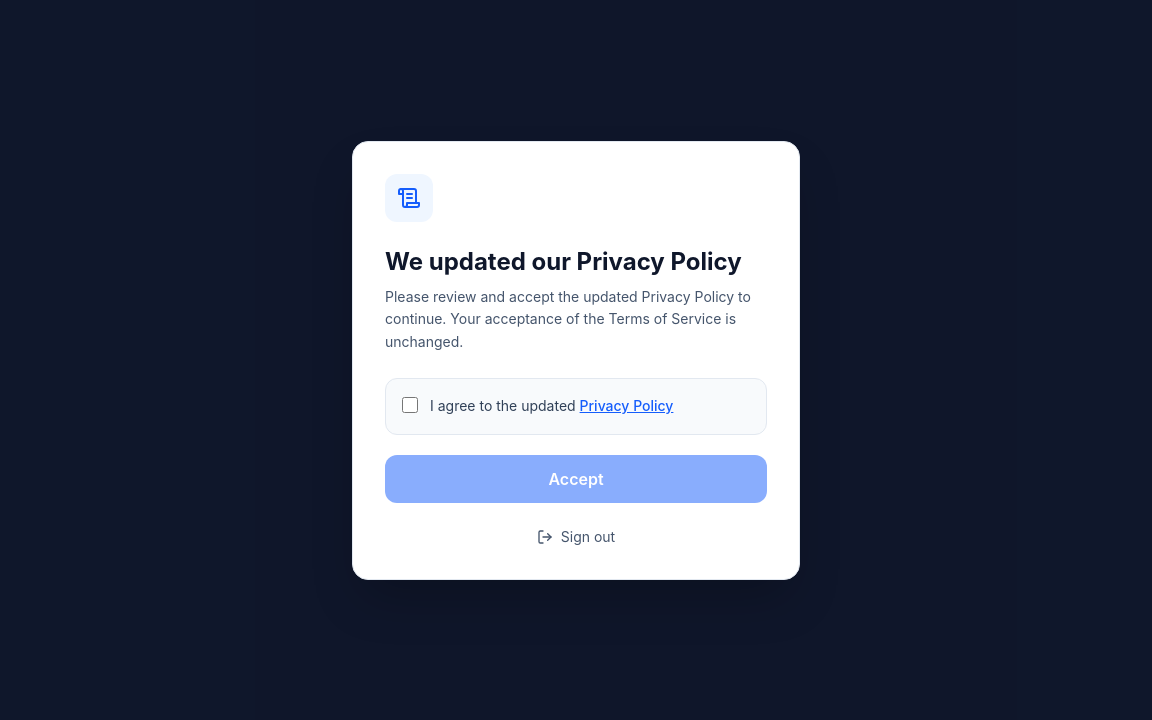
Legal acceptance gate › asks only for the updated Privacy Policy when the current Terms are already accepted
This screenshot has width=1152, height=720.
Expected: the dialog "We updated our Privacy Policy" shows "Your acceptance of the Terms of Service is unchanged.", [385,288,751,350]
Click the checkbox at (410,405), box [402,397,418,413]
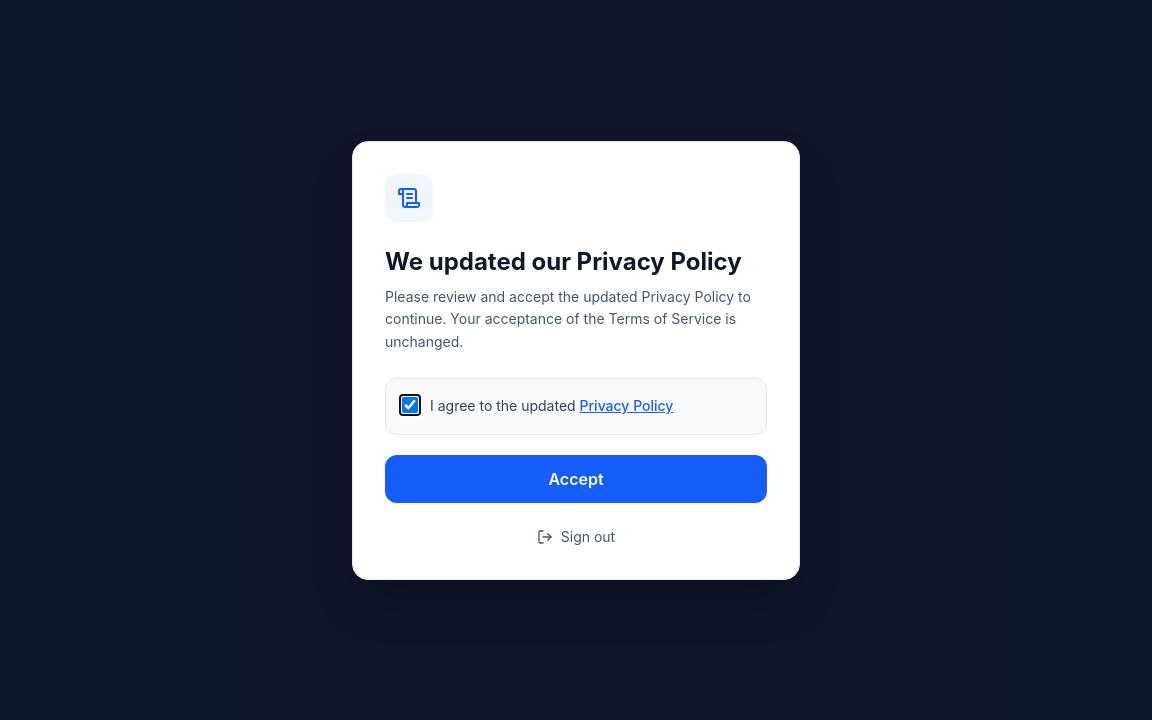
Click the button "Accept" at (576,478), box [385,454,767,502]
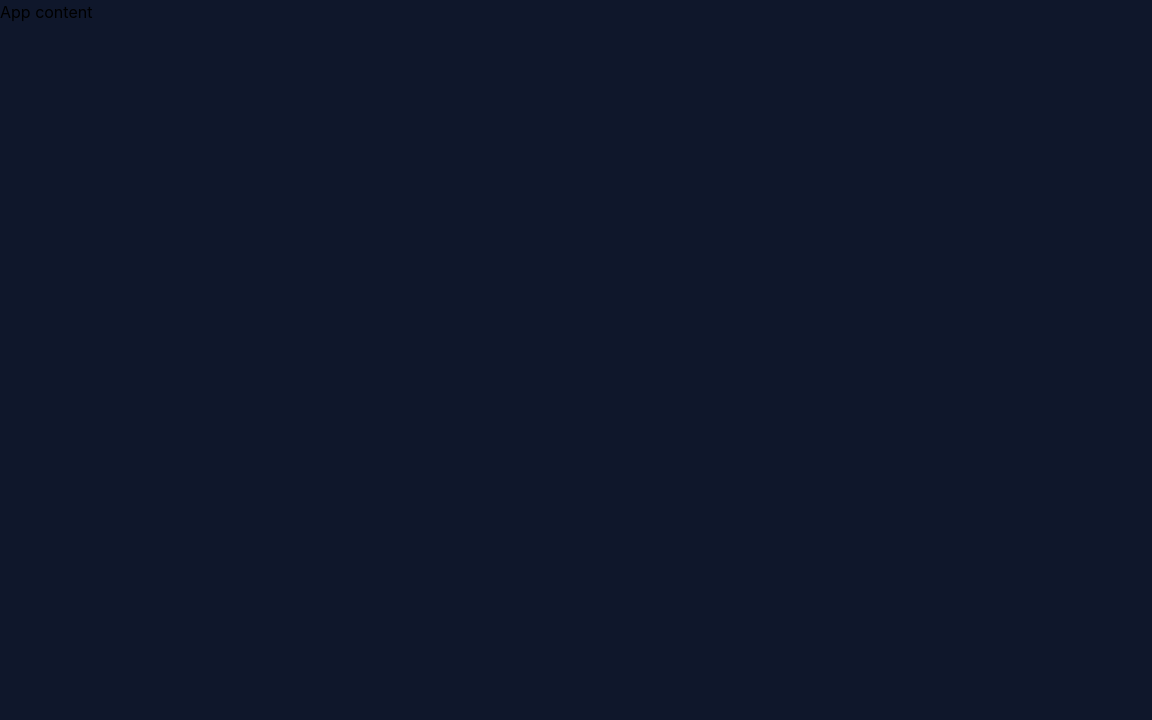
Now the text "App content" is shown, box [0,2,92,22]
